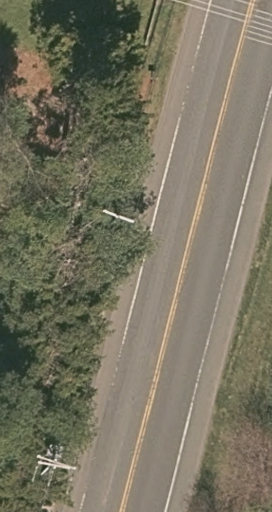DT: (100, 207, 137, 228)
